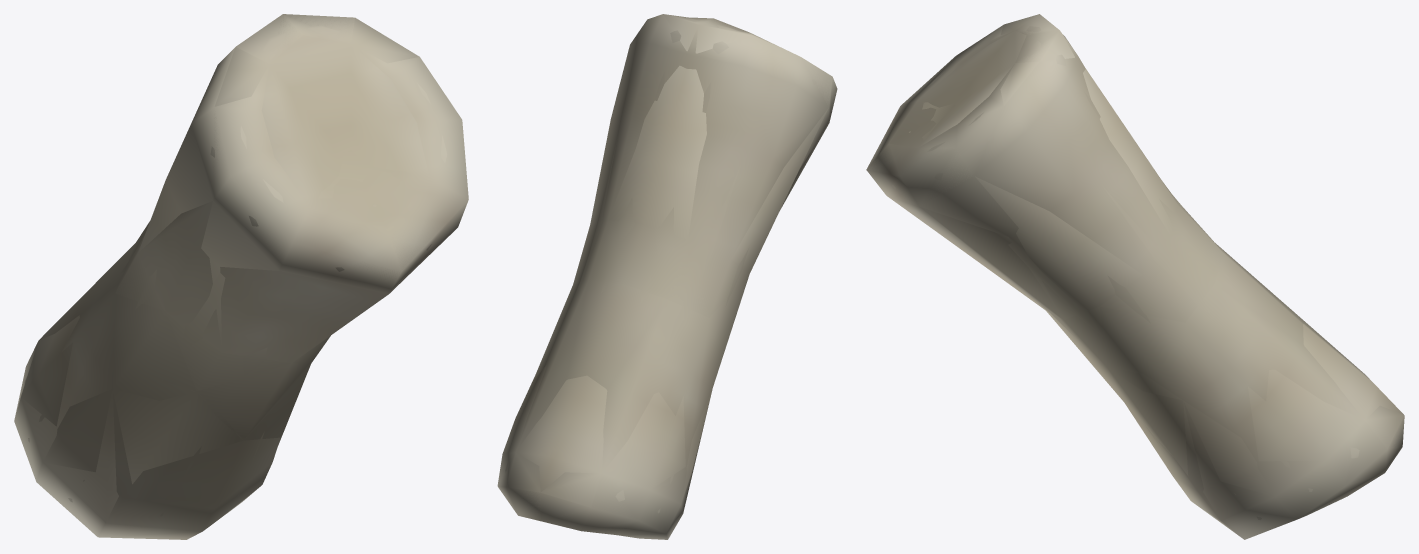
Rendered from vertebrae caudales 18.fbx.
The picture shows the model from 3 angles, left to right: view 1: azimuth 30°, elevation 25°; view 2: azimuth 150°, elevation 25°; view 3: azimuth 270°, elevation 25°; orthographic projection. The views are drawn at different scales.
Parts seen in each view (by area): view 1: vertebrae caudales 18 low, vertebrae caudales 18, vertebrae caudales 18 high; view 2: vertebrae caudales 18, vertebrae caudales 18 low, vertebrae caudales 18 high; view 3: vertebrae caudales 18, vertebrae caudales 18 low, vertebrae caudales 18 high.
Part boxes in pixels (x1,y1,x2,y2): vertebrae caudales 18 low: (15, 14, 468, 537); vertebrae caudales 18: (14, 14, 468, 539); vertebrae caudales 18 high: (24, 25, 447, 516); vertebrae caudales 18: (497, 14, 837, 539); vertebrae caudales 18 low: (498, 14, 836, 537); vertebrae caudales 18 high: (505, 18, 831, 522); vertebrae caudales 18: (866, 14, 1404, 539); vertebrae caudales 18 low: (869, 14, 1404, 538); vertebrae caudales 18 high: (892, 26, 1359, 520).
Size of the model in its own units: 0.2911 by 0.6793 by 0.6801.
Materials: 1 (1 with a texture image).
